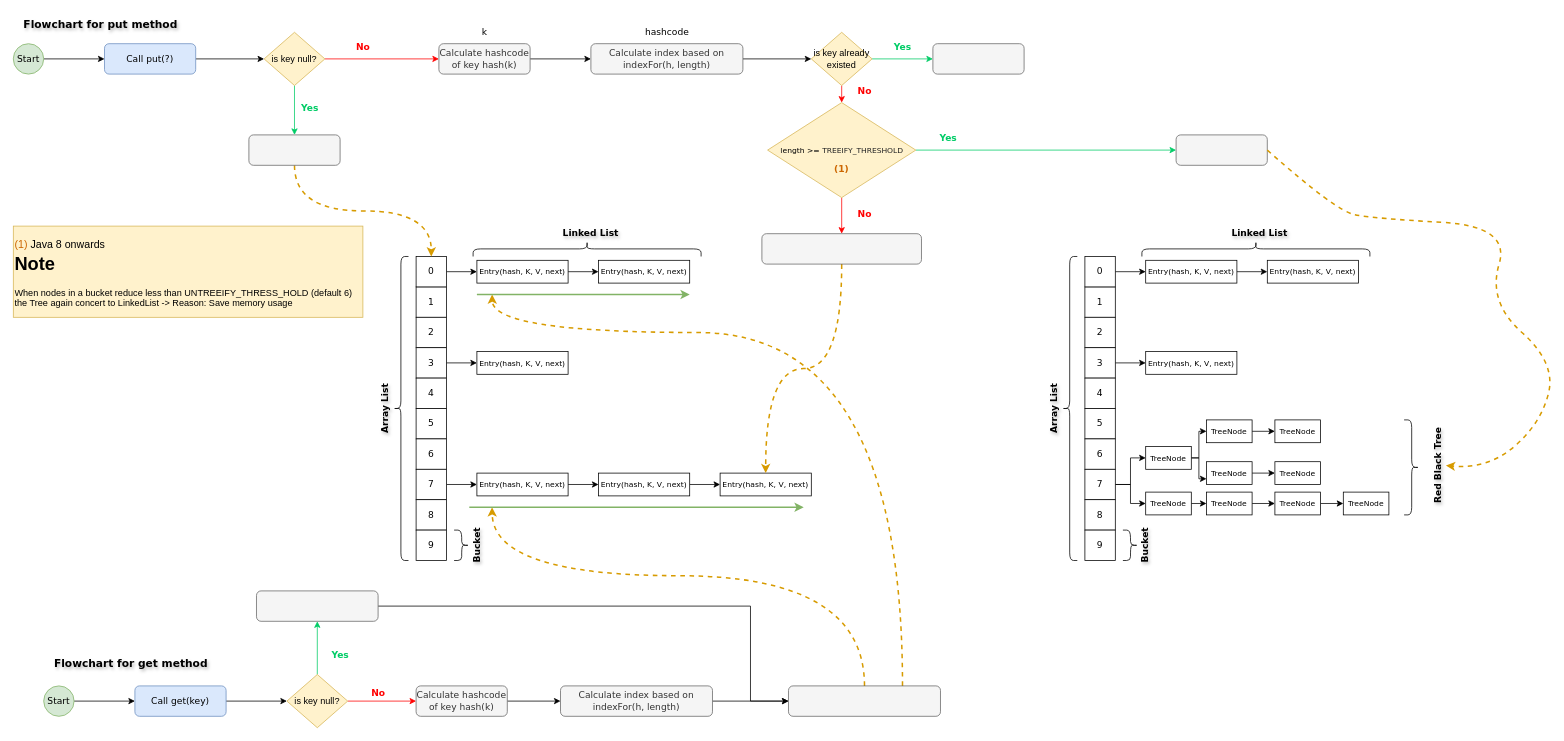
This 1564x741 diagram has some shape labels left out. The shapes that lost their labels are listed below. From the top down, each one's centre as x and y in pixels, then its label:
At (978,58): "Replace old value to new one".
At (294,149): "Place it at index 0".
At (1221,149): "Convert Linked List to ReadBlackTree".
At (841,248): "Place it at the end of the linked list addEntry(hash, key, value, i)".
At (317,605): "call getForNullKey()".
At (864,700): "interate through linked list/ tree check key using equals()".
